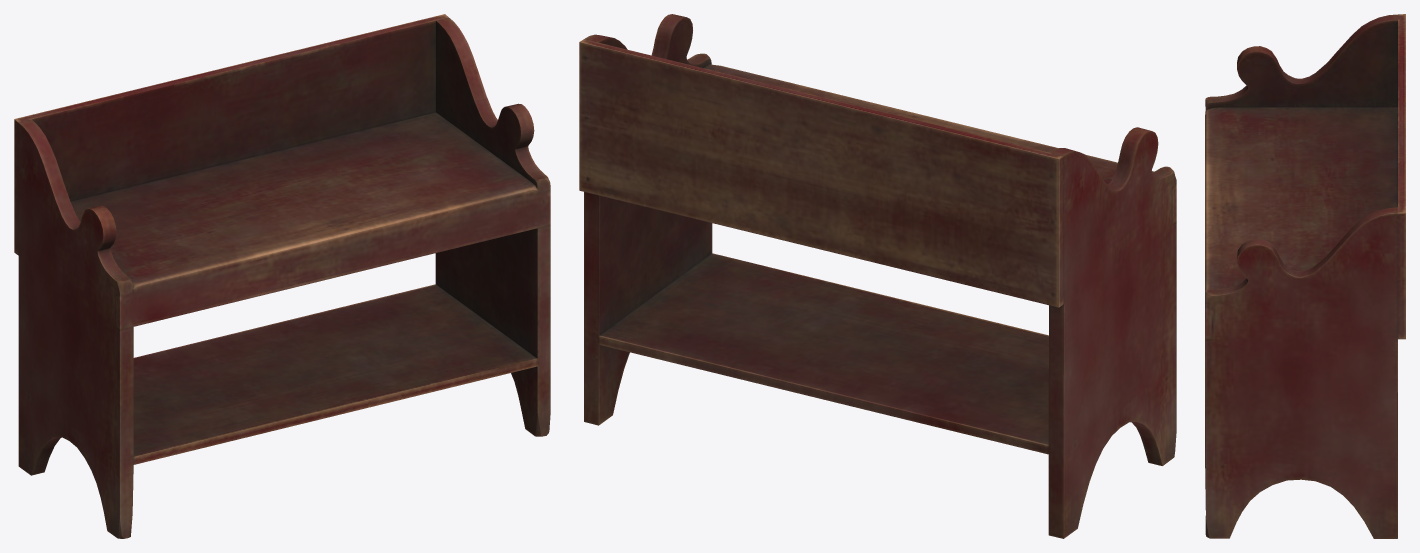
File: detail.fbx
3 renders of one model, left to right at view 1: azimuth 30°, elevation 25°; view 2: azimuth 150°, elevation 25°; view 3: azimuth 270°, elevation 25°, orthographic. The views are drawn at different scales.
Parts seen in each view (by area): view 1: painted_wooden_bench; view 2: painted_wooden_bench; view 3: painted_wooden_bench.
Boxes of the visible parts, bbox=[...] form: painted_wooden_bench: bbox=[14, 14, 550, 538]; painted_wooden_bench: bbox=[579, 14, 1176, 538]; painted_wooden_bench: bbox=[1205, 14, 1405, 538].
Size of the model in its own units: 116 by 88.93 by 49.65.
